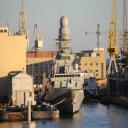Fragata: (47, 8, 86, 118)
